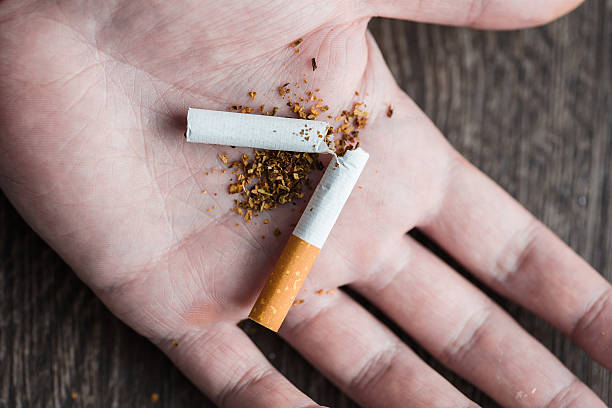cigarette: (247, 141, 370, 333), (184, 100, 335, 154)
